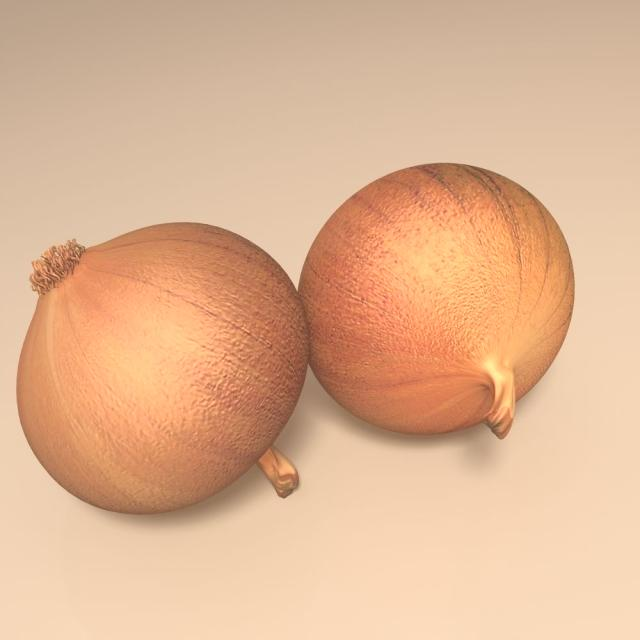onion: (12, 218, 307, 520), (287, 159, 577, 440)
